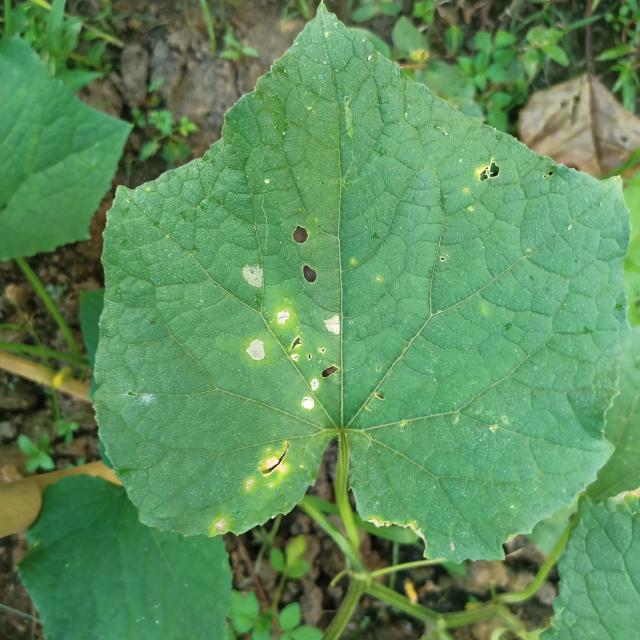disease_cucumber: (226, 256, 354, 420)
